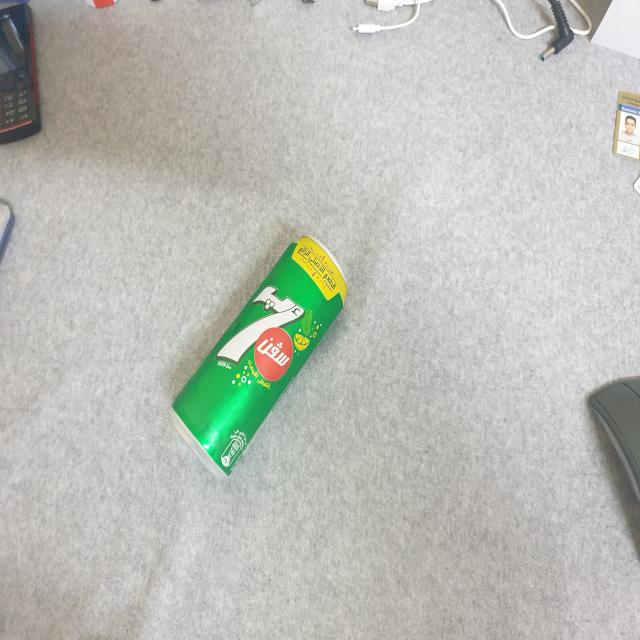non-organic waste: (161, 220, 353, 483)
